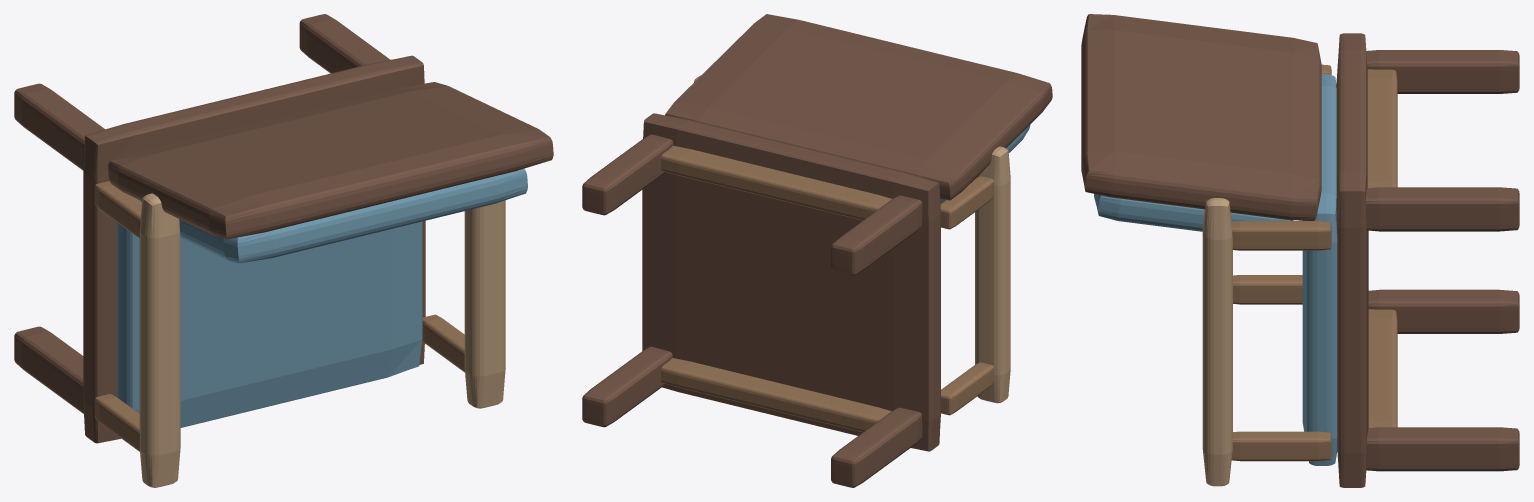
File: chair.glb
3 renders of one model, left to right at view 1: azimuth 30°, elevation 25°; view 2: azimuth 150°, elevation 25°; view 3: azimuth 270°, elevation 25°, orthographic. The views are drawn at different scales.
Parts seen in each view (by area): view 1: Upholstered_Seat, Backrest_Wood, Seat_Frame, Left_Armrest, Backrest_Padding, Right_Armrest, Left_Rear_Leg, Left_Front_Leg, Right_Rear_Leg, Left_Arm_Front_Support, Left_Arm_Rear_Support, Right_Arm_Front_Support; view 2: Seat_Frame, Backrest_Wood, Left_Armrest, Rear_Apron, Front_Apron, Left_Rear_Leg, Left_Front_Leg, Right_Rear_Leg, Right_Front_Leg, Left_Arm_Front_Support, Left_Arm_Rear_Support; view 3: Backrest_Wood, Seat_Frame, Upholstered_Seat, Right_Armrest, Right_Rear_Leg, Right_Front_Leg, Left_Front_Leg, Left_Rear_Leg, Rear_Apron, Front_Apron, Right_Arm_Front_Support, Right_Arm_Rear_Support (+2 smaller).
Part boxes in pixels (<box>): Upholstered_Seat: <box>117,199,422,427</box>; Backrest_Wood: <box>108,82,553,239</box>; Seat_Frame: <box>83,55,425,443</box>; Left_Armrest: <box>139,193,180,487</box>; Backrest_Padding: <box>141,168,527,263</box>; Right_Armrest: <box>464,200,505,408</box>; Left_Rear_Leg: <box>14,83,104,170</box>; Left_Front_Leg: <box>14,326,83,413</box>; Right_Rear_Leg: <box>299,14,390,73</box>; Left_Arm_Front_Support: <box>94,394,139,451</box>; Left_Arm_Rear_Support: <box>94,181,141,238</box>; Right_Arm_Front_Support: <box>422,314,464,372</box>; Seat_Frame: <box>642,113,940,451</box>; Backrest_Wood: <box>665,14,1052,200</box>; Left_Armrest: <box>975,146,1010,403</box>; Rear_Apron: <box>661,145,891,220</box>; Front_Apron: <box>661,358,891,432</box>; Left_Rear_Leg: <box>831,195,922,275</box>; Left_Front_Leg: <box>831,407,922,487</box>; Right_Rear_Leg: <box>582,134,673,215</box>; Right_Front_Leg: <box>582,346,672,427</box>; Left_Arm_Front_Support: <box>941,362,994,415</box>; Left_Arm_Rear_Support: <box>940,176,994,229</box>; Backrest_Wood: <box>1081,14,1321,220</box>; Seat_Frame: <box>1336,33,1368,487</box>; Upholstered_Seat: <box>1302,74,1337,465</box>; Right_Armrest: <box>1202,198,1232,486</box>; Right_Rear_Leg: <box>1366,187,1519,231</box>; Right_Front_Leg: <box>1366,427,1519,471</box>; Left_Front_Leg: <box>1368,289,1519,333</box>; Left_Rear_Leg: <box>1366,50,1519,93</box>; Rear_Apron: <box>1367,69,1397,188</box>; Front_Apron: <box>1368,309,1397,427</box>; Right_Arm_Front_Support: <box>1231,431,1331,461</box>; Right_Arm_Rear_Support: <box>1232,221,1331,250</box>.
Size of the model in its own units: 1.77 by 1.52 by 1.89.
